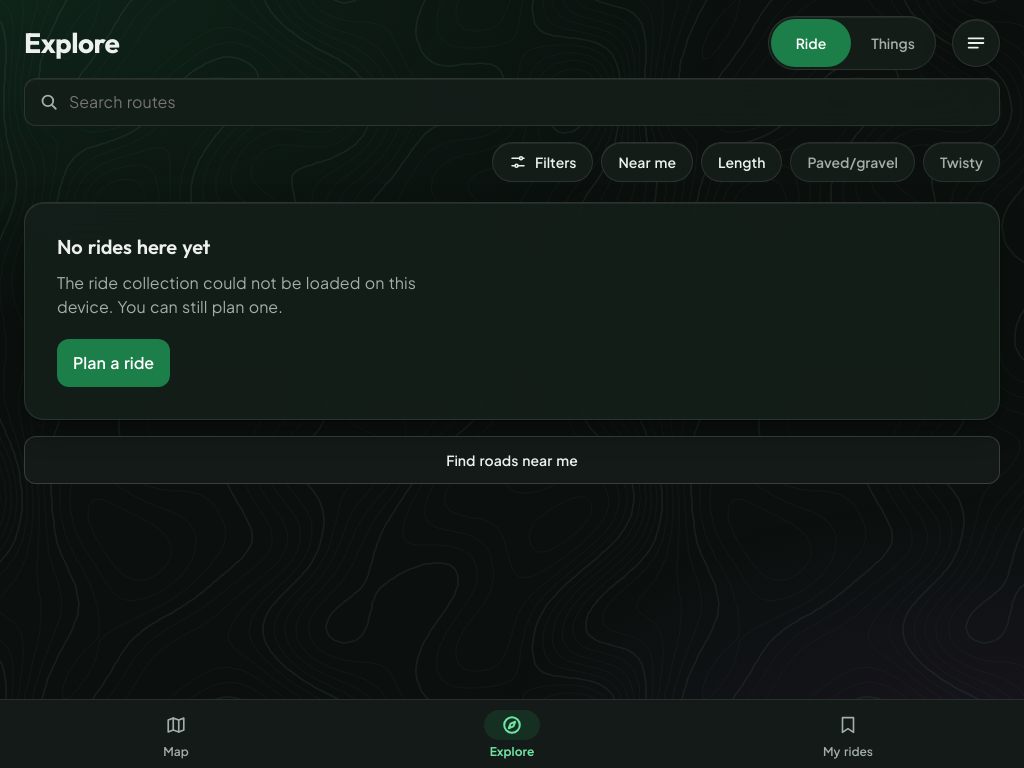
Test: Explore Ride and Things › preserves rider ranking in Things and caps events without dropping destinations
Click the tab "Things" at coordinates (893, 43), box [853, 19, 933, 67]
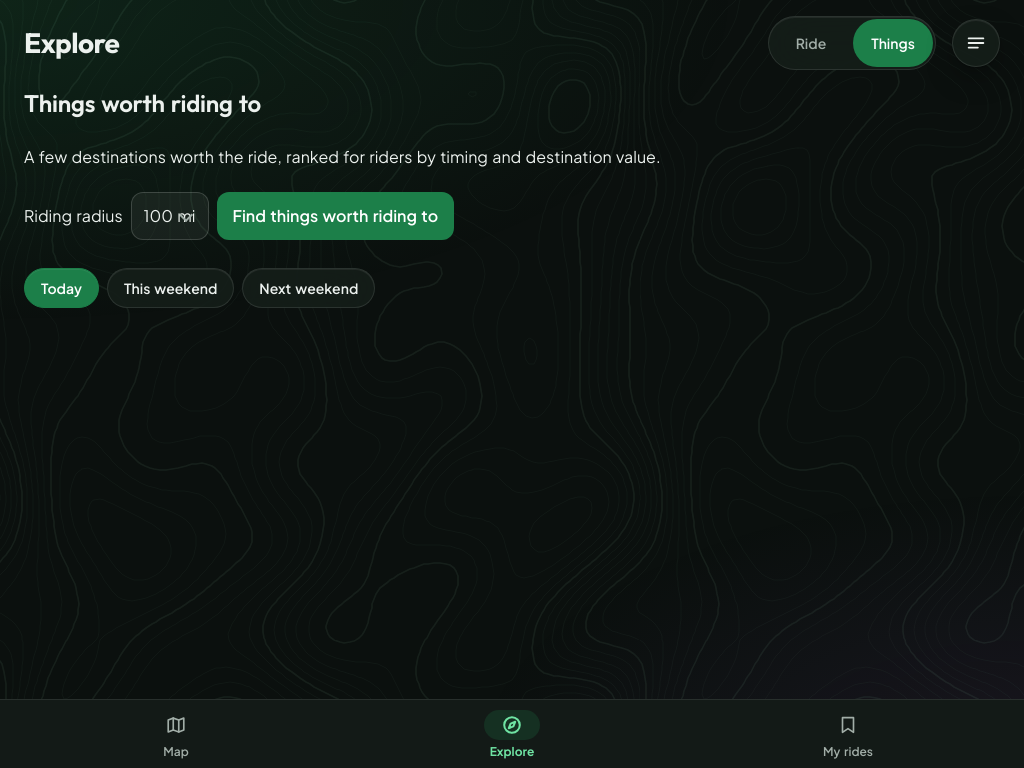
Click the button "Find things worth riding to" at coordinates (335, 216), box [216, 192, 454, 240]
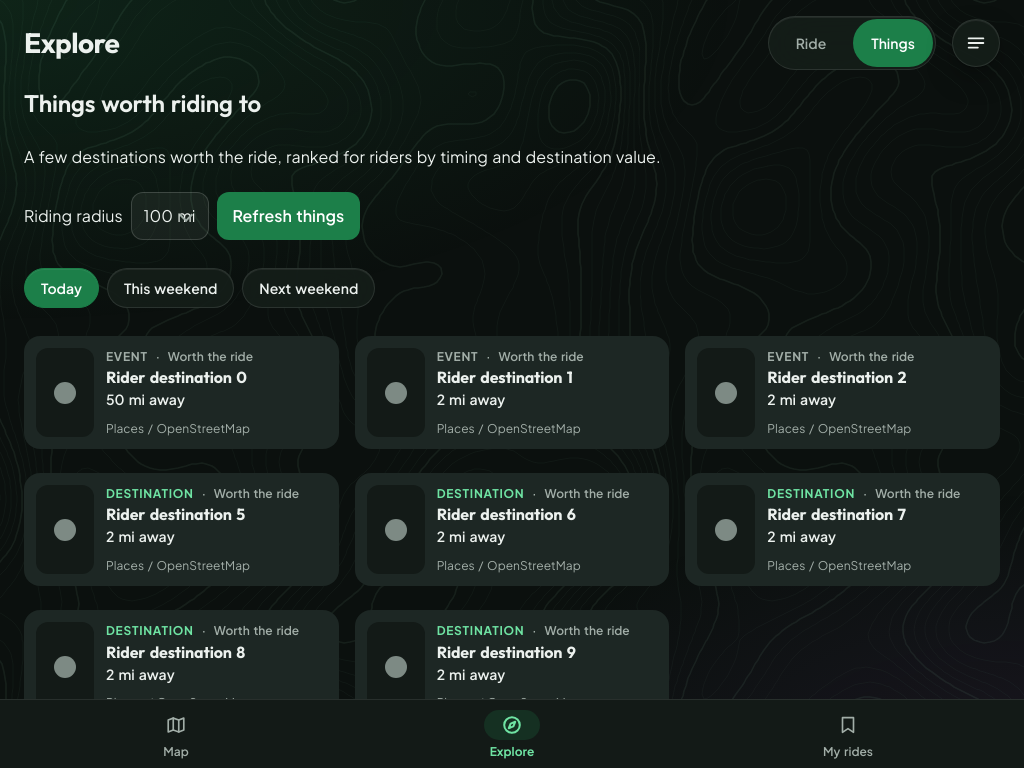
Now the number of list items is 8
Now the 1st list item shows "Rider destination 0", box [106, 367, 247, 387]
Now the text "Event" is shown 3 times, box [106, 348, 148, 365]; [437, 348, 478, 365]; [767, 348, 809, 365]
